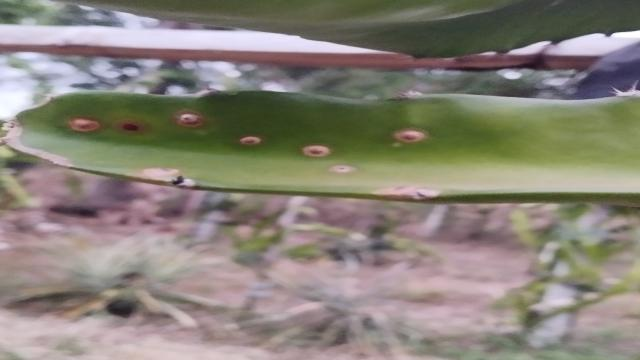stemcanker: (59, 112, 106, 138), (389, 124, 432, 148), (169, 107, 208, 133), (297, 140, 336, 161), (111, 117, 147, 136), (326, 159, 360, 178), (232, 132, 267, 149)
